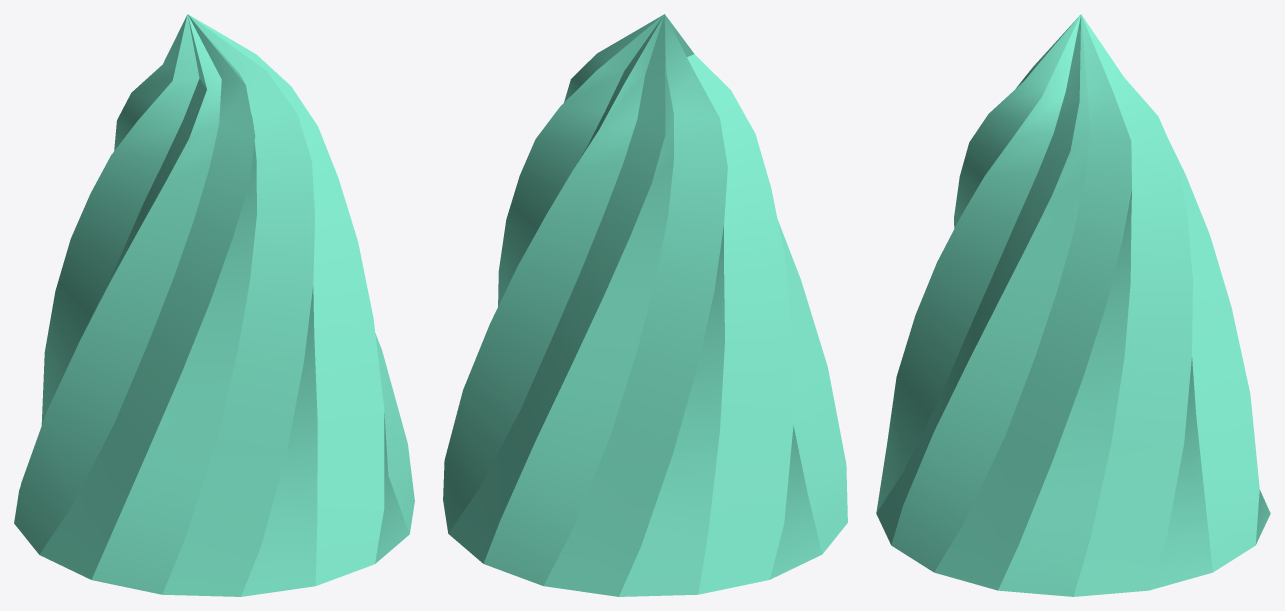
The model's file is Ice Cream Hat B.fbx.
The picture shows the model from 3 angles, left to right: view 1: azimuth 30°, elevation 25°; view 2: azimuth 150°, elevation 25°; view 3: azimuth 270°, elevation 25°; orthographic projection. The views are drawn at different scales.
Parts seen in each view (by area): view 1: Ice Cream Hat B; view 2: Ice Cream Hat B; view 3: Ice Cream Hat B.
Part boxes in pixels (left/top/right/bottom): Ice Cream Hat B: left=14, top=14, right=414, bottom=596; Ice Cream Hat B: left=443, top=14, right=847, bottom=596; Ice Cream Hat B: left=876, top=14, right=1270, bottom=596.
Bounding box in the file's own units: 0.4333 × 0.5923 × 0.4333.
